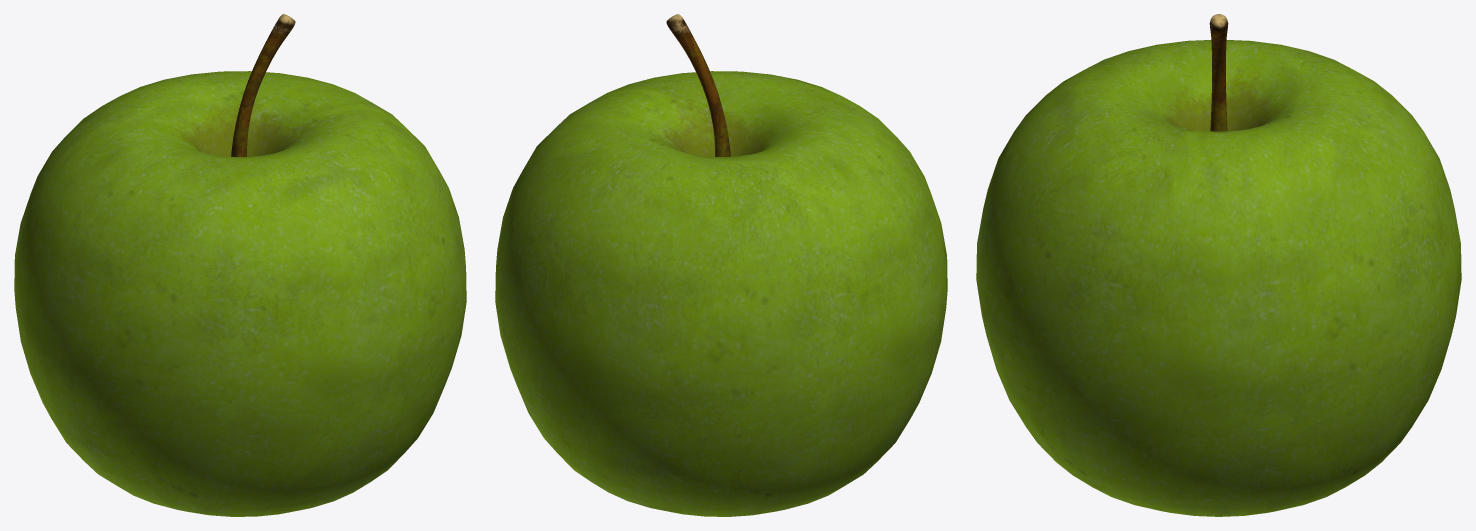
File: green_apple_low_poly.glb
The picture shows the model from 3 angles, left to right: view 1: azimuth 30°, elevation 25°; view 2: azimuth 150°, elevation 25°; view 3: azimuth 270°, elevation 25°; orthographic projection. The views are drawn at different scales.
Parts seen in each view (by area): view 1: apple; view 2: apple; view 3: apple.
Boxes of the visible parts, x1,y1,x2,y2 form: apple: (14, 14, 466, 516); apple: (495, 14, 947, 516); apple: (976, 14, 1461, 516).
Bounding box in the file's own units: 0.0861 × 0.0938 × 0.0861.
Materials: 1 (1 with a texture image).
